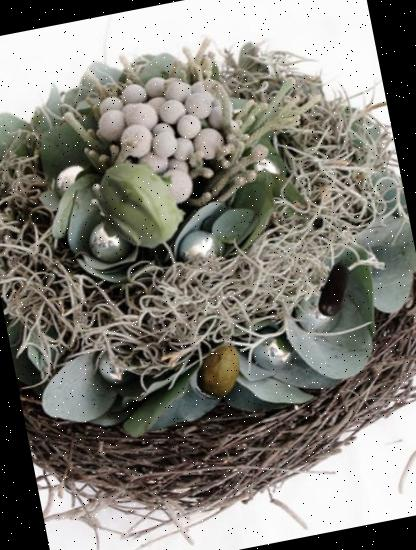Eggplant: (298, 250, 372, 324)
Kohlrabi: (81, 146, 196, 260)
Papaya: (186, 336, 254, 404)
